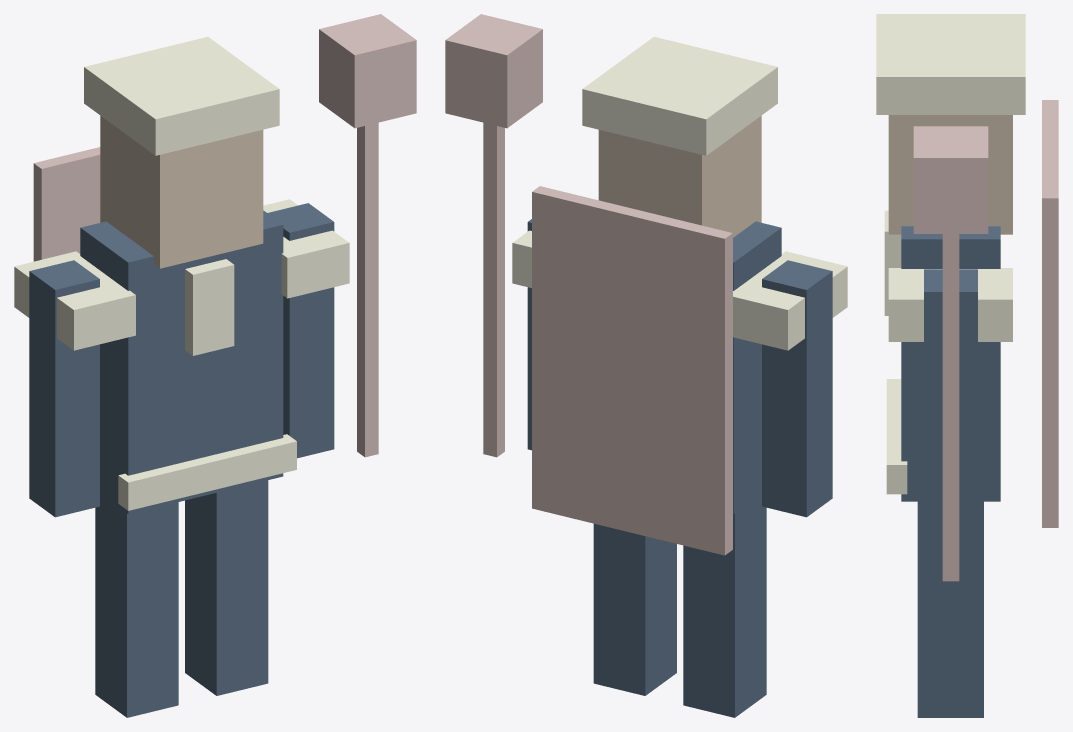
File: 20_tovin_ironwake_mechanist_of_lunar.glb
3 views of the same model, side by side, from view 1: azimuth 30°, elevation 25°; view 2: azimuth 150°, elevation 25°; view 3: azimuth 270°, elevation 25° (orthographic). The views are drawn at different scales.
Parts seen in each view (by area): view 1: Tovin Ironwake, Mechanist of Lunar; view 2: Tovin Ironwake, Mechanist of Lunar; view 3: Tovin Ironwake, Mechanist of Lunar.
Part boxes in pixels (box(x1,y1,x2,y2)): Tovin Ironwake, Mechanist of Lunar: box(14, 14, 416, 717); Tovin Ironwake, Mechanist of Lunar: box(445, 14, 847, 717); Tovin Ironwake, Mechanist of Lunar: box(876, 14, 1058, 717).
Size of the model in its own units: 1.04 by 1.7 by 0.4426.
